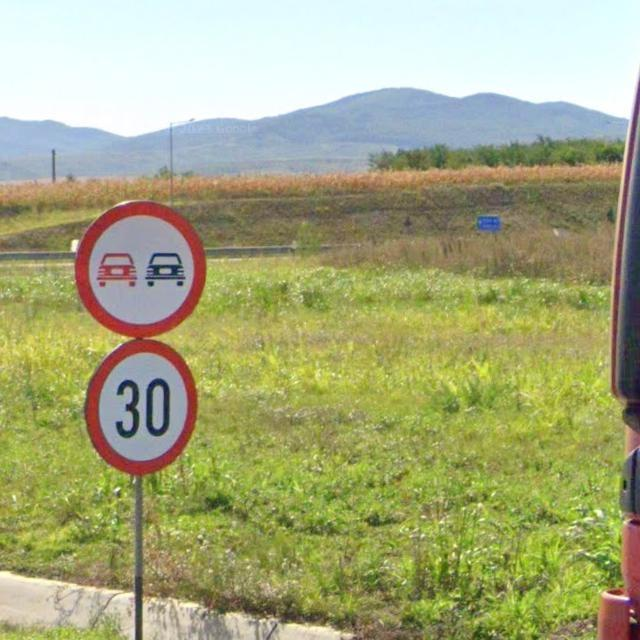forb_overtake: (72, 195, 208, 338)
forb_speed_over_30: (82, 338, 200, 476)
